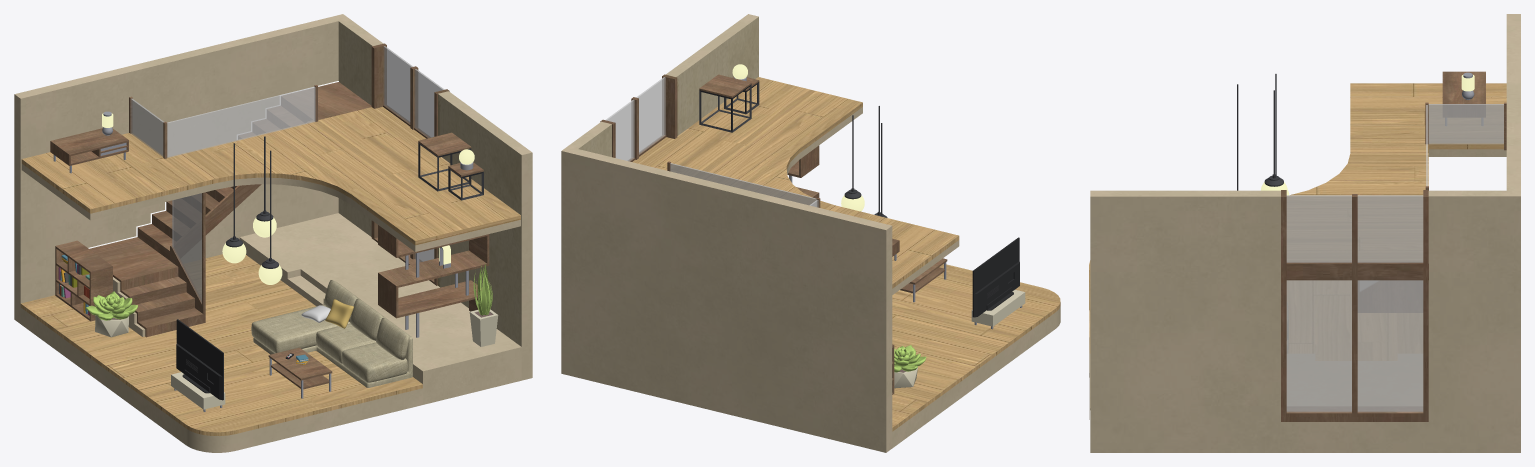
Rendered from house.glb.
3 renders of one model, left to right at view 1: azimuth 30°, elevation 25°; view 2: azimuth 150°, elevation 25°; view 3: azimuth 270°, elevation 25°, orthographic. The views are drawn at different scales.
Visible parts, largest first — view 1: Walls, GroundFirstLevel, GroundSecondLevel, Stairs, Couch, GlassFenceSecondLevel, Shelf, Window, BookShelf, TV, StairsGlass, Cabient (+10 smaller); view 2: Walls, GroundSecondLevel, GroundFirstLevel, Window, TV, GlassFenceSecondLevel, CubeStandBig, PlantLightmap_1, TVTabel, Shelf, CouchTabel, LampCeiling_2; view 3: Walls, Window, GroundSecondLevel, GroundFirstLevel, GlassFenceSecondLevel, Stairs, Cabient, LampCeiling_2.
Part boxes in pixels (x1=…): Walls: x1=14, y1=14, x2=532, y2=380; GroundFirstLevel: x1=20, y1=213, x2=521, y2=452; GroundSecondLevel: x1=21, y1=85, x2=520, y2=251; Stairs: x1=89, y1=82, x2=371, y2=337; Couch: x1=251, y1=280, x2=412, y2=387; GlassFenceSecondLevel: x1=130, y1=86, x2=315, y2=157; Shelf: x1=378, y1=225, x2=489, y2=337; Window: x1=383, y1=46, x2=444, y2=262; BookShelf: x1=55, y1=240, x2=112, y2=321; TV: x1=176, y1=319, x2=223, y2=400; StairsGlass: x1=172, y1=193, x2=201, y2=302; Cabient: x1=50, y1=128, x2=128, y2=173; Walls: x1=561, y1=14, x2=892, y2=452; GroundSecondLevel: x1=632, y1=77, x2=959, y2=294; GroundFirstLevel: x1=892, y1=264, x2=1060, y2=448; Window: x1=605, y1=77, x2=665, y2=161; TV: x1=972, y1=237, x2=1019, y2=317; GlassFenceSecondLevel: x1=670, y1=163, x2=818, y2=207; CubeStandBig: x1=699, y1=74, x2=751, y2=132; PlantLightmap_1: x1=894, y1=345, x2=926, y2=388; TVTabel: x1=971, y1=289, x2=1025, y2=326; Shelf: x1=788, y1=145, x2=819, y2=198; CouchTabel: x1=900, y1=258, x2=947, y2=302; LampCeiling_2: x1=841, y1=115, x2=864, y2=211; Walls: x1=1090, y1=14, x2=1520, y2=452; Window: x1=1286, y1=195, x2=1423, y2=412; GroundSecondLevel: x1=1287, y1=83, x2=1506, y2=260; GroundFirstLevel: x1=1089, y1=260, x2=1422, y2=419; GlassFenceSecondLevel: x1=1426, y1=104, x2=1503, y2=186; Stairs: x1=1358, y1=281, x2=1422, y2=312; Cabient: x1=1442, y1=71, x2=1485, y2=125; LampCeiling_2: x1=1261, y1=90, x2=1287, y2=195.
Bounding box in the file's own units: 5.69 × 3.76 × 5.67.
Materials: 18 (5 with a texture image).
